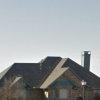Chimney: (75, 41, 93, 72)
